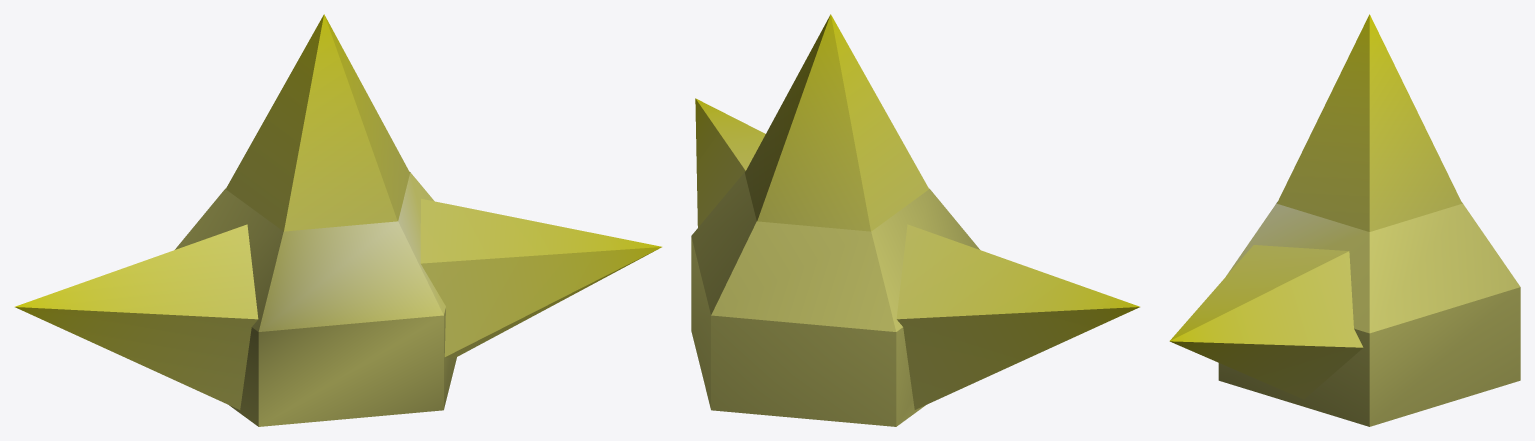
The model's file is StarMeteor.fbx.
3 views of the same model, side by side, from view 1: azimuth 30°, elevation 25°; view 2: azimuth 150°, elevation 25°; view 3: azimuth 270°, elevation 25° (orthographic).
Parts seen in each view (by area): view 1: pCone7; view 2: pCone7; view 3: pCone7.
Part boxes in pixels (box(x1,y1,x2,y2)): pCone7: box(15, 14, 661, 426); pCone7: box(691, 14, 1139, 426); pCone7: box(1169, 14, 1520, 426).
Size of the model in its own units: 6.56 by 4.09 by 3.7.
